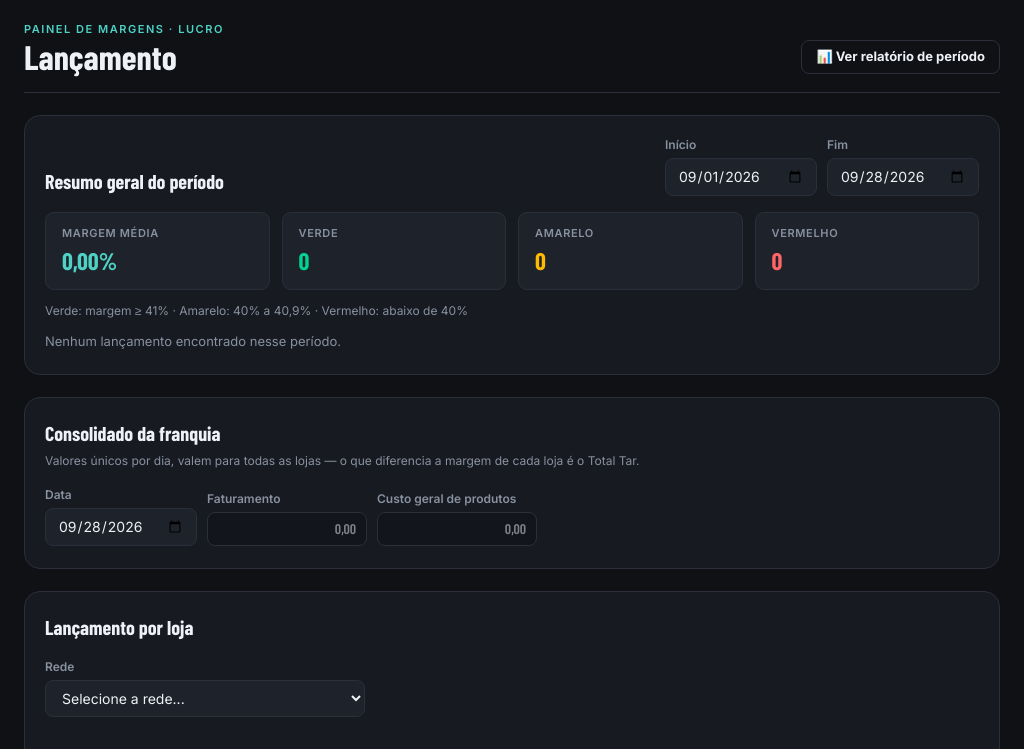
MargensPage — confirmar via margem digitada (fonte autoritativa padrão) › deriva o totalTar e envia margemInformada; após sucesso, desabilita os campos com o selo "Confirmado"
Select "Delta" in the dropdown labelled "Rede" at (205,698), box [45,680,365,716]
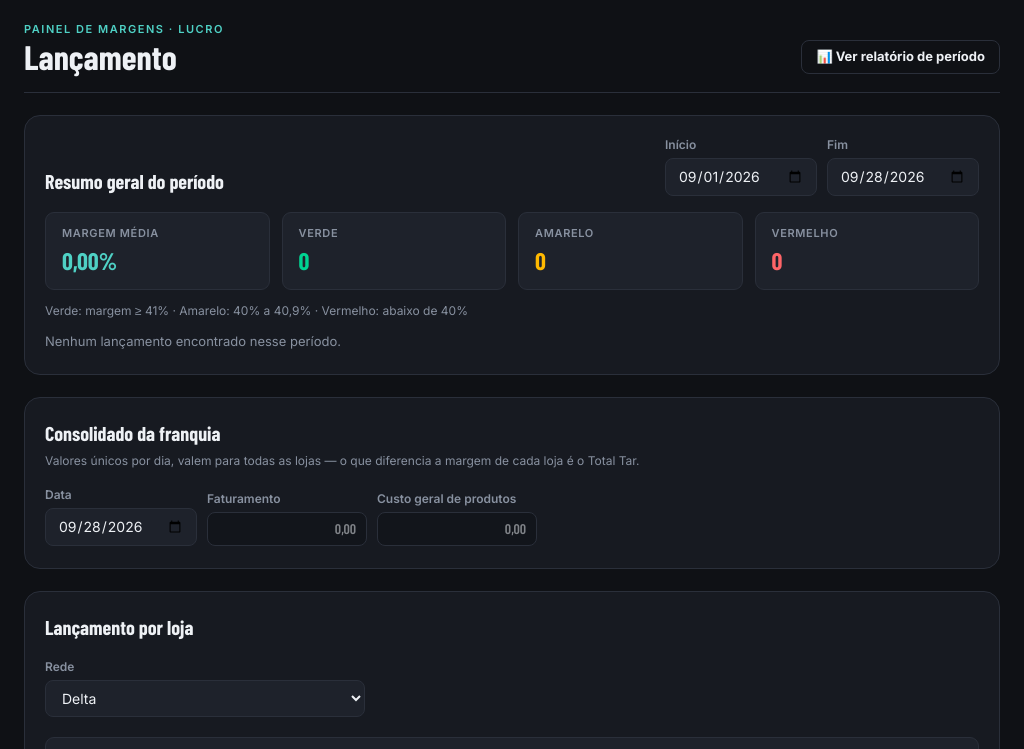
Type "10000000" into the field labelled "Faturamento".
click(287, 528); type("10000000")  # box [207,512,367,546]
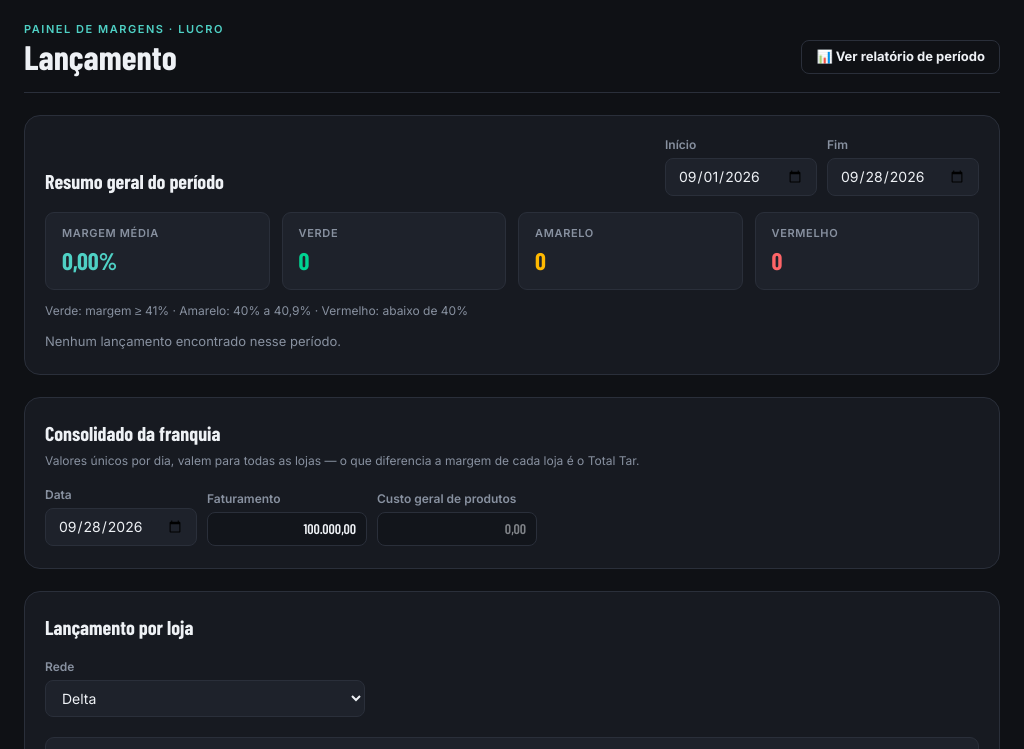
Type "4000000" into the field labelled "Custo geral de produtos".
click(457, 528); type("4000000")  # box [377,512,537,546]
(page scrolled)
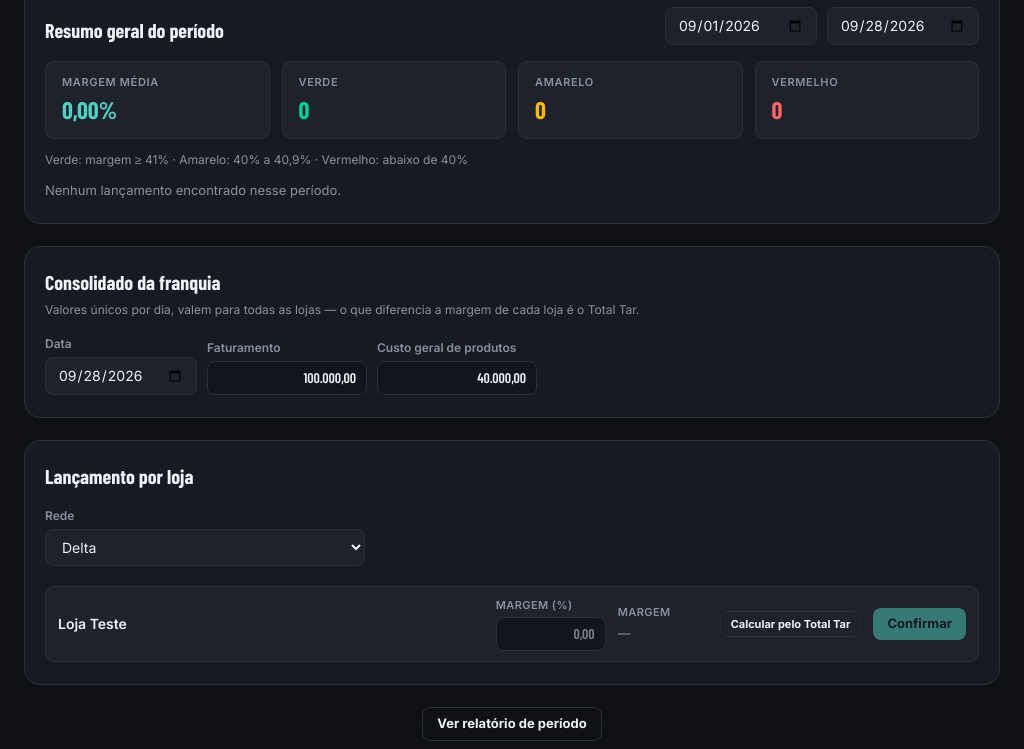
Type "5000" into the field labelled "Margem (%)".
click(551, 634); type("5000")  # box [496,617,606,651]
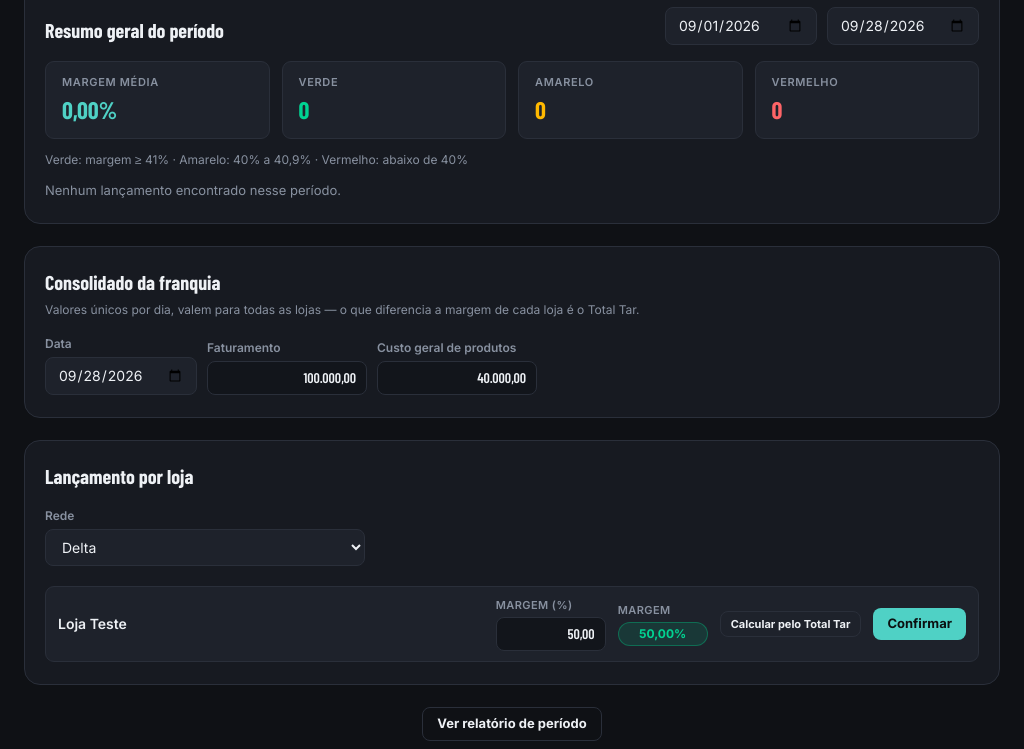
Now the button "Confirmar" is enabled
Click the button "Confirmar".
click(920, 624)  # box [873,608,966,640]
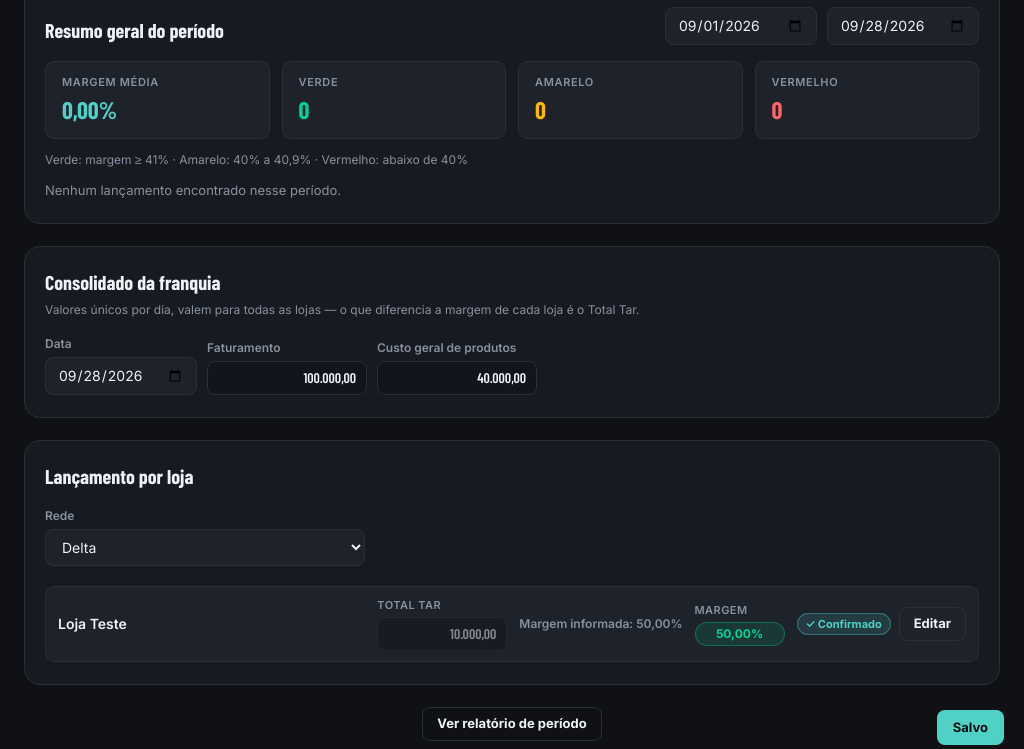
Now the text "✓ Confirmado" is shown, box [796,612,891,635]
Now the field labelled "Total Tar" is disabled, box [377,617,507,651]
